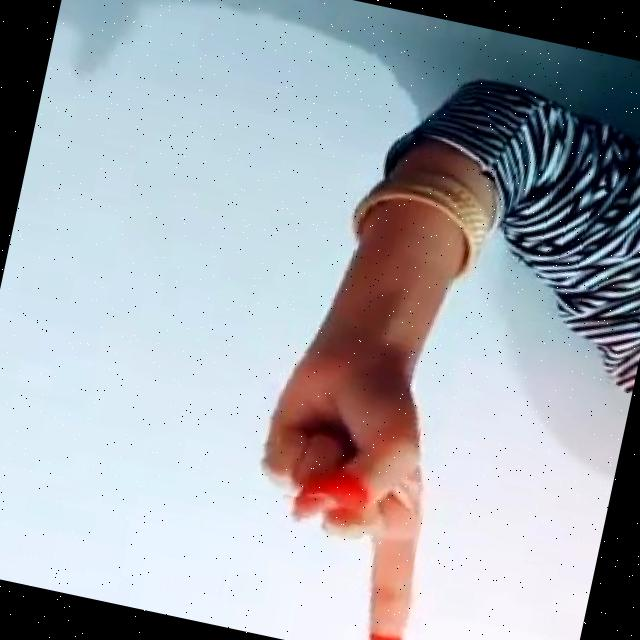Suchi: (193, 333, 500, 640)
bangle: (318, 154, 528, 297)
